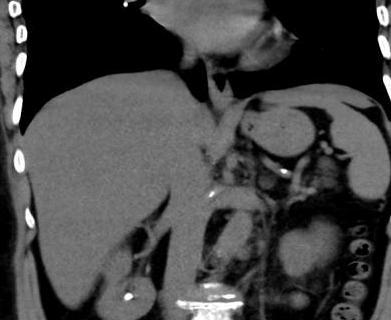Tas_Var: (120, 289, 136, 307)
